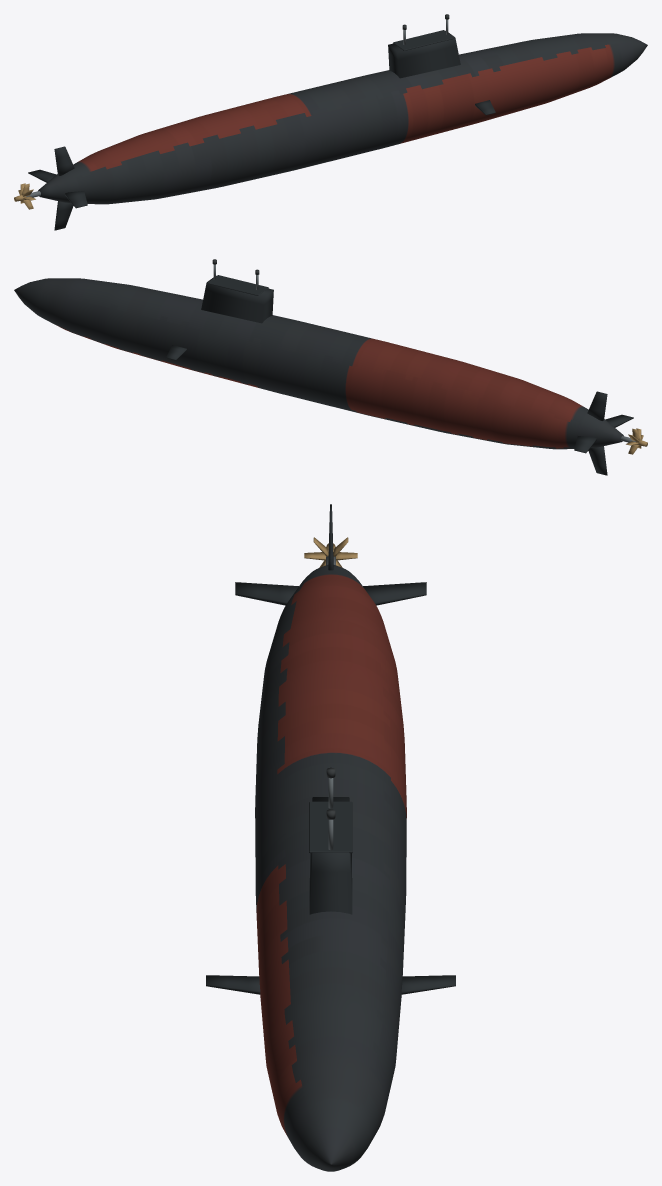
File: RU_SSN_Victor.glb
The picture shows the model from 3 angles, top to bottom: view 1: azimuth 30°, elevation 25°; view 2: azimuth 150°, elevation 25°; view 3: azimuth 270°, elevation 25°; orthographic projection. The views are drawn at different scales.
Parts seen in each view (by area): view 1: RU_SSN_Victor_LOD0; view 2: RU_SSN_Victor_LOD0; view 3: RU_SSN_Victor_LOD0.
Part boxes in pixels (left/top/right/bottom): RU_SSN_Victor_LOD0: left=14, top=14, right=647, bottom=230; RU_SSN_Victor_LOD0: left=14, top=259, right=647, bottom=475; RU_SSN_Victor_LOD0: left=206, top=504, right=455, bottom=1171.
Bounding box in the file's own units: 96.25 × 17.36 × 16.48.
6 materials, 1 textured.
